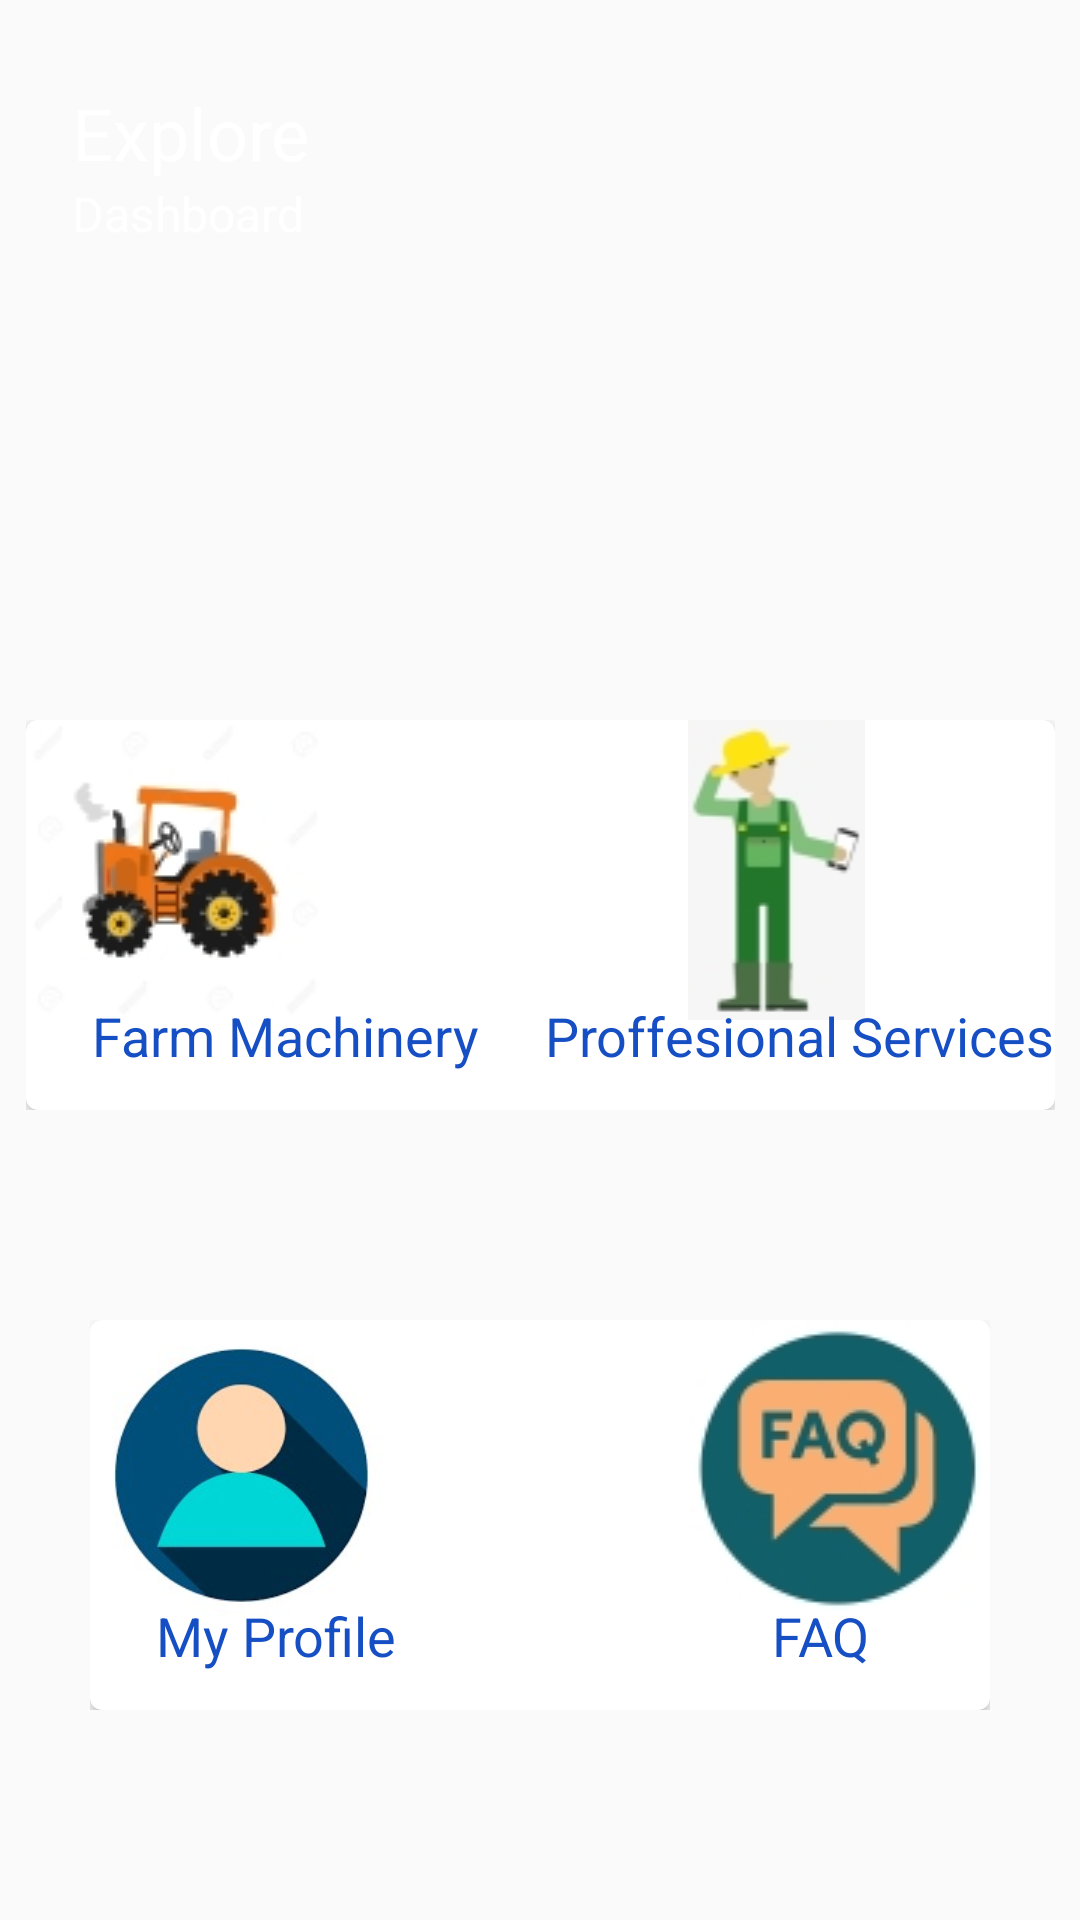

Locate icon controls on the screen. Image size 1080*1920, boxes as bbox(x1, y1, x2, y2).
tractor: bbox(76, 784, 279, 958)
